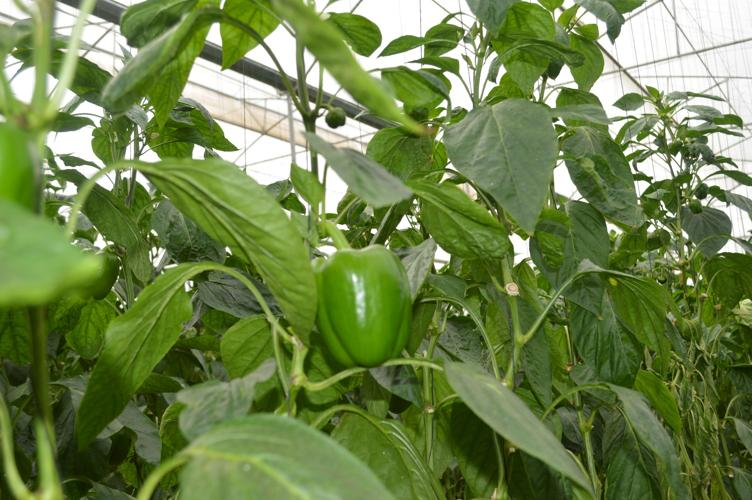BellPepper: (304, 240, 430, 377)
